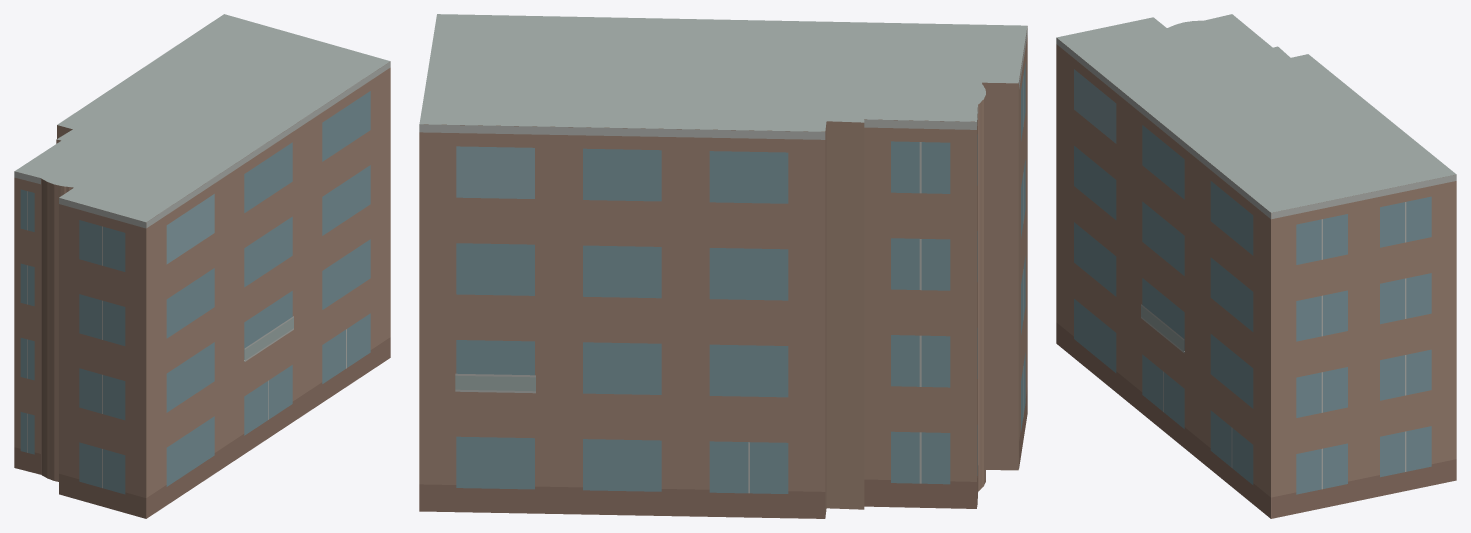
Rendered from survey-upis-32827776.glb.
The picture shows the model from 3 angles, left to right: view 1: azimuth 30°, elevation 25°; view 2: azimuth 150°, elevation 25°; view 3: azimuth 270°, elevation 25°; orthographic projection. The views are drawn at different scales.
Visible parts, largest first — view 1: survey-upis-32827776.tmp; view 2: survey-upis-32827776.tmp; view 3: survey-upis-32827776.tmp.
Boxes of the visible parts, x1,y1,x2,y2 form: survey-upis-32827776.tmp: (14,14,390,518); survey-upis-32827776.tmp: (419,14,1027,518); survey-upis-32827776.tmp: (1056,14,1456,518).
Bounding box in the file's own units: 16.18 × 11.6 × 13.76.
